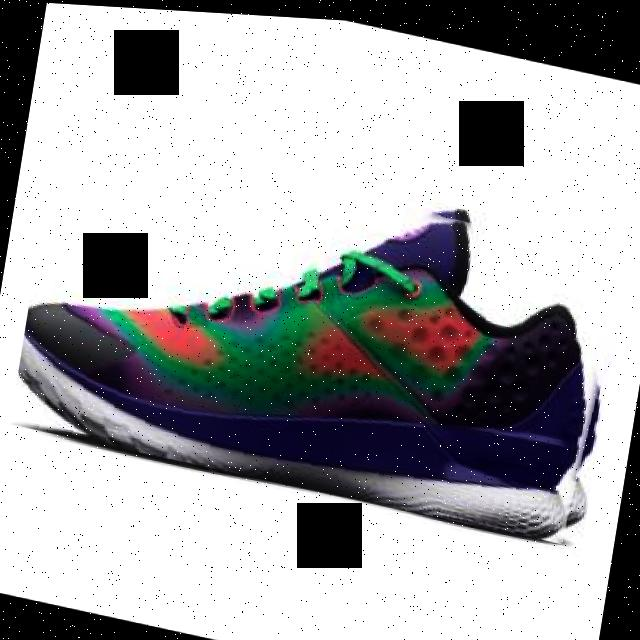shoe: (10, 118, 631, 544)
